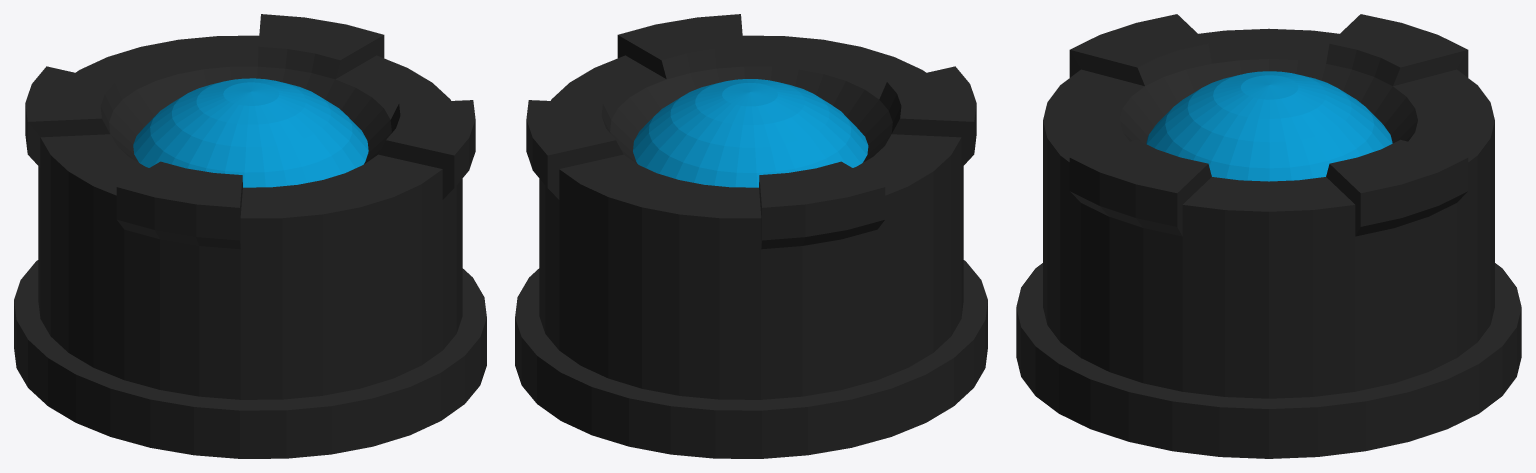
The model's file is DomeBuildNeon01.fbx.
The picture shows the model from 3 angles, left to right: view 1: azimuth 30°, elevation 25°; view 2: azimuth 150°, elevation 25°; view 3: azimuth 270°, elevation 25°; orthographic projection. The views are drawn at different scales.
Visible parts, largest first — view 1: DomeBuildNeon01; view 2: DomeBuildNeon01; view 3: DomeBuildNeon01.
Boxes of the visible parts, box(x1,y1,x2,y2) form: DomeBuildNeon01: box(14, 14, 486, 458); DomeBuildNeon01: box(515, 14, 987, 458); DomeBuildNeon01: box(1016, 14, 1521, 458).
Bounding box in the file's own units: 1.61 × 1.01 × 1.69.
